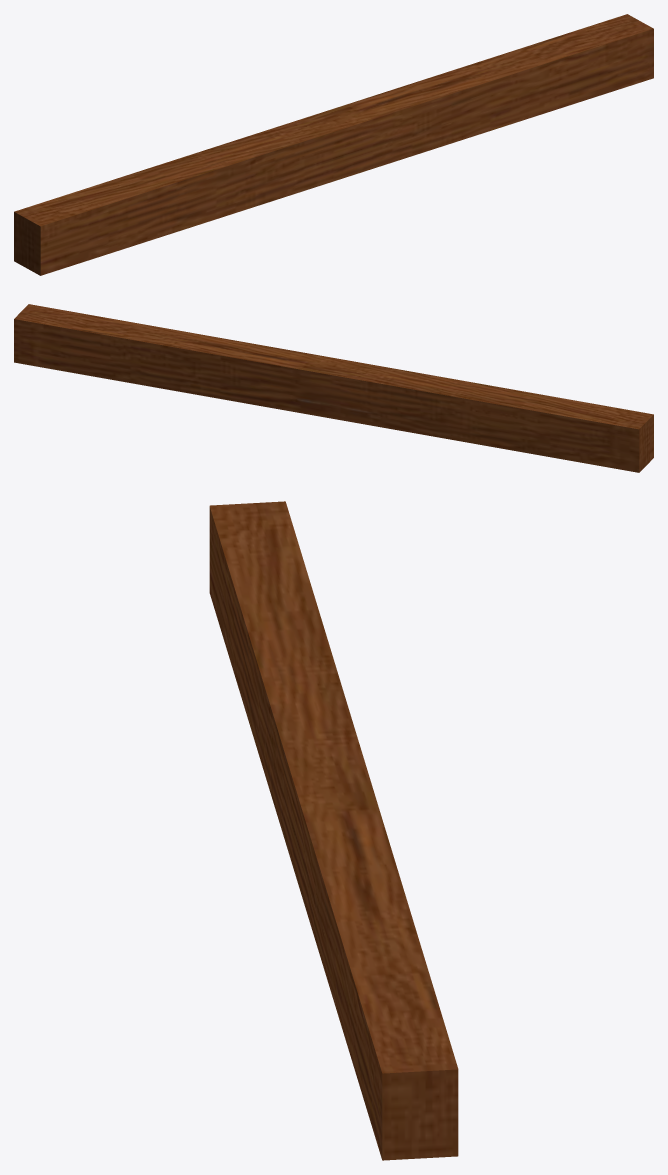
The model's file is frame__lower_rail_neg.glb.
3 views of the same model, one above another, from view 1: azimuth 30°, elevation 25°; view 2: azimuth 150°, elevation 25°; view 3: azimuth 270°, elevation 25° (orthographic). The views are drawn at different scales.
Visible parts, largest first — view 1: geometry_0; view 2: geometry_0; view 3: geometry_0.
Part boxes in pixels (left/top/right/bottom): geometry_0: left=14, top=14, right=653, bottom=275; geometry_0: left=14, top=304, right=653, bottom=472; geometry_0: left=209, top=501, right=458, bottom=1160.
Bounding box in the file's own units: 0.7051 × 0.05 × 0.1297.
Materials: 1 (1 with a texture image).
